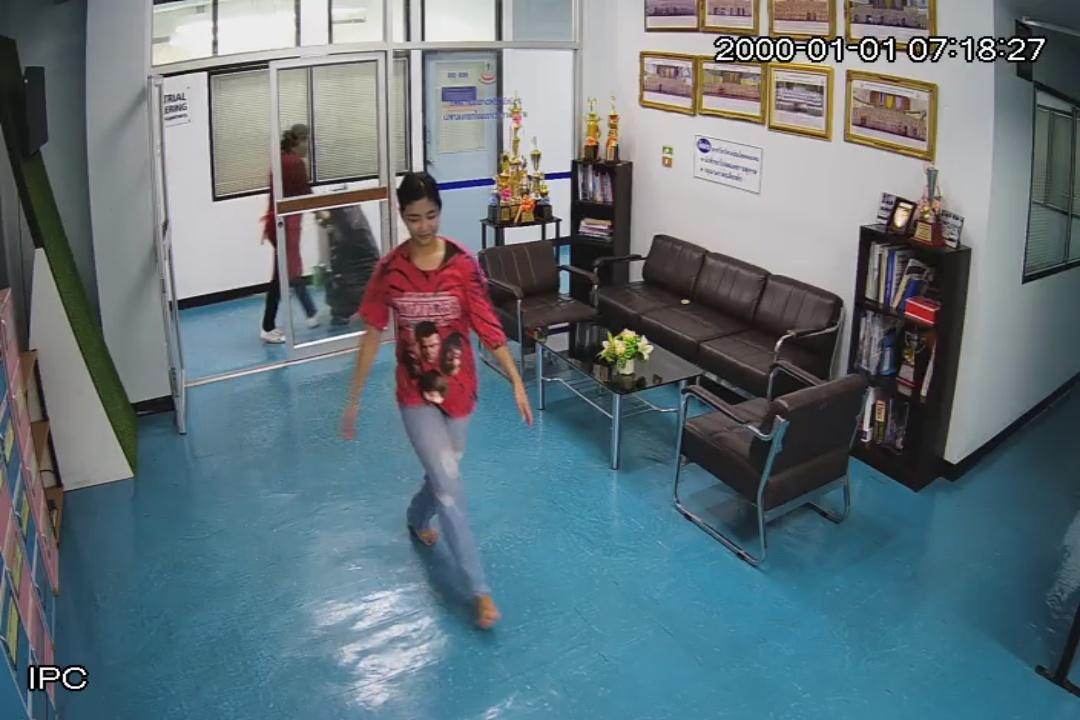normal: (343, 172, 534, 635), (257, 118, 330, 342)
